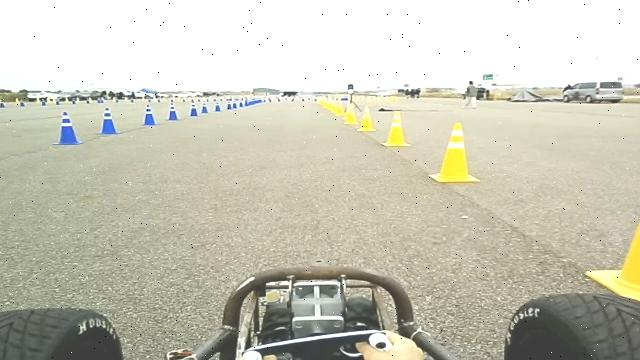blue cone: (52, 110, 83, 146), (95, 106, 122, 136), (140, 103, 158, 125), (166, 99, 178, 120), (187, 97, 198, 116), (200, 98, 209, 114), (213, 96, 222, 111), (232, 96, 240, 111), (225, 96, 232, 109), (238, 95, 243, 111)
yellow cone: (574, 155, 640, 313), (428, 122, 480, 182), (381, 110, 411, 147), (356, 105, 376, 132), (342, 103, 358, 125), (334, 97, 345, 116)
